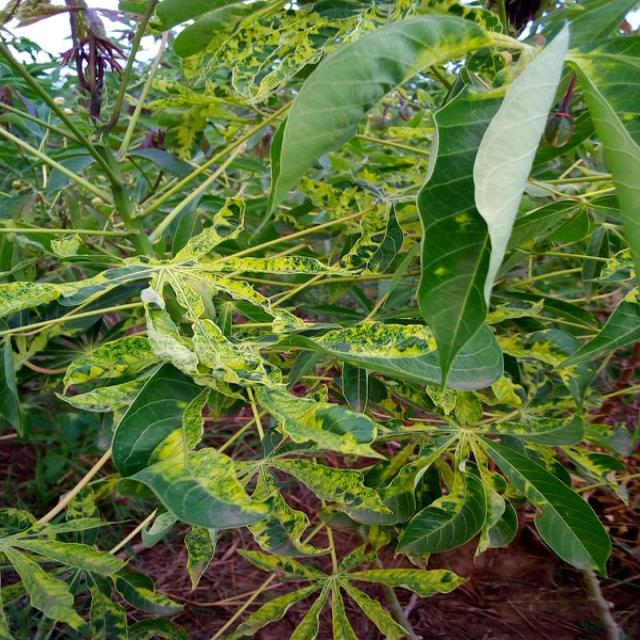cassava leaf: (268, 12, 494, 216), (472, 18, 570, 311), (122, 426, 270, 530)
